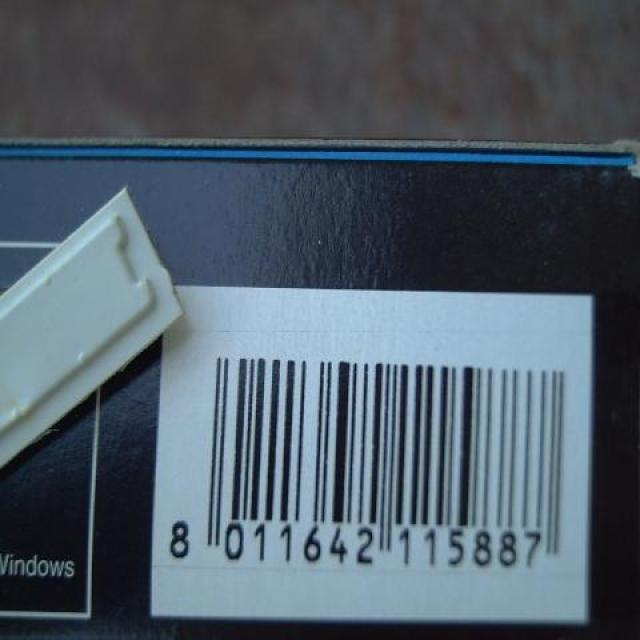Barcode: (152, 284, 593, 621)
